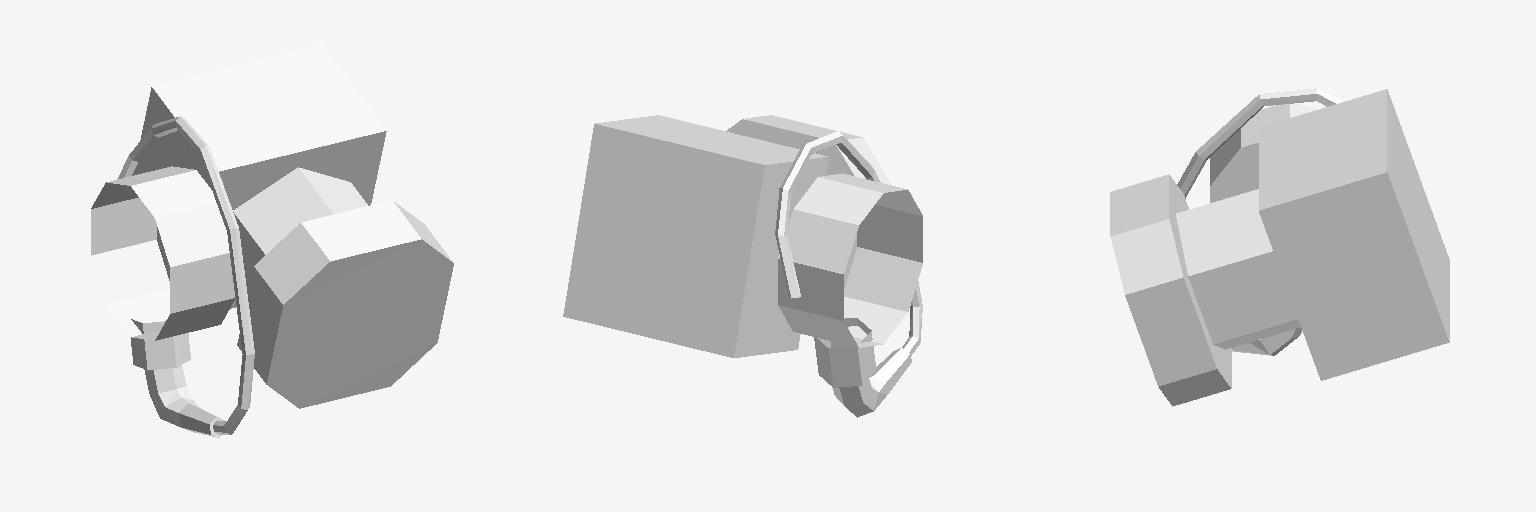
Rendered from head_camera.obj.
3 renders of one model, left to right at view 1: azimuth 30°, elevation 25°; view 2: azimuth 150°, elevation 25°; view 3: azimuth 270°, elevation 25°, orthographic.
Parts seen in each view (by area): view 1: head_camera_head002Mesh; view 2: head_camera_head002Mesh; view 3: head_camera_head002Mesh.
Part boxes in pixels (bbox=[...]): head_camera_head002Mesh: bbox=[91, 45, 453, 437]; head_camera_head002Mesh: bbox=[563, 115, 922, 417]; head_camera_head002Mesh: bbox=[1110, 88, 1449, 406].
Bounding box in the file's own units: 0.083 × 0.0936 × 0.101.